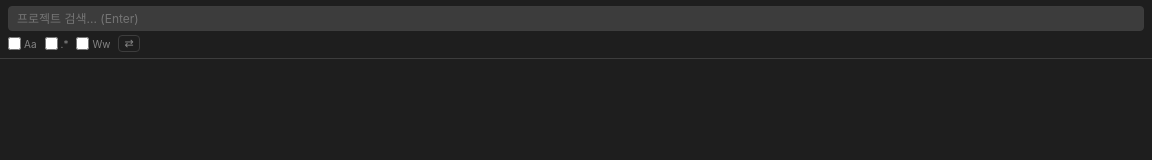
Test case: SearchPanel › grepSearch 오류 시 에러 메시지가 표시된다
The image size is (1152, 160).
Type "hello" into the field with placeholder "프로젝트 검색... (Enter)" at {"x": 576, "y": 18}, box [8,6,1144,31]
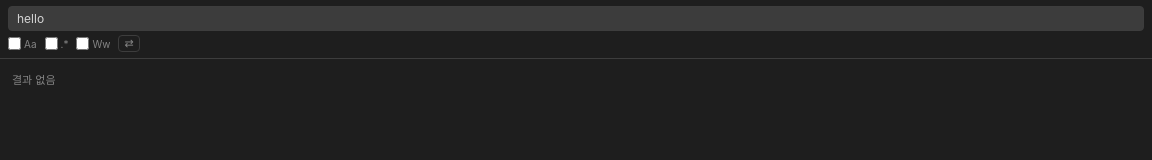
Press Enter in the field with placeholder "프로젝트 검색... (Enter)", box [8,6,1144,31]
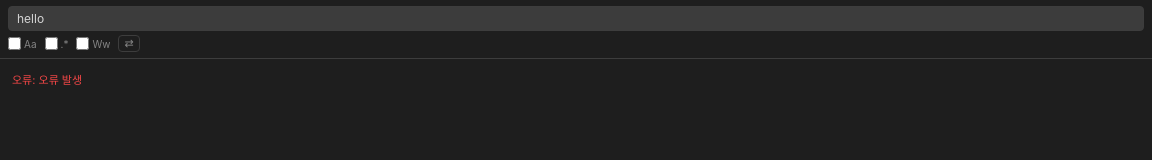
Now the text "오류: 오류 발생" is shown, box [12,73,82,87]
